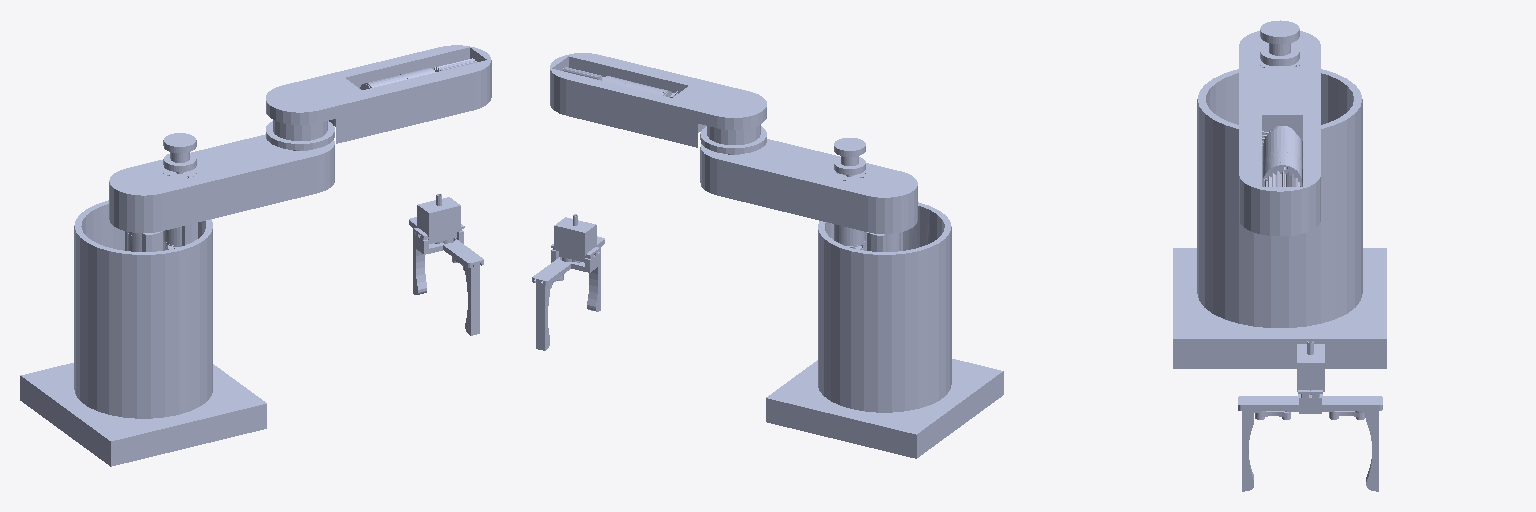
The robot description file, URDF, robot "Ensamblaje_Brazo_URDF":
<?xml version="1.0" encoding="utf-8"?>
<!-- This URDF was automatically created by SolidWorks to URDF Exporter! Originally created by Stephen Brawner (brawner@gmail.com) 
     Commit Version: 1.6.0-4-g7f85cfe  Build Version: 1.6.7995.38578
     For more information, please see http://wiki.ros.org/sw_urdf_exporter -->
<robot
  name="Ensamblaje_Brazo_URDF">
  <link
    name="Llink_Base">
    <inertial>
      <origin
        xyz="0 0 0.039271"
        rpy="0 0 0" />
      <mass
        value="0.54885" />
      <inertia
        ixx="0.0017523"
        ixy="3.7788E-20"
        ixz="3.5061E-20"
        iyy="0.0017453"
        iyz="2.9011E-19"
        izz="0.0013988" />
    </inertial>
    <visual>
      <origin
        xyz="0 0 0"
        rpy="0 0 0" />
      <geometry>
        <mesh
          filename="package://Ensamblaje_Brazo_URDF/meshes/Llink_Base.STL" />
      </geometry>
      <material
        name="">
        <color
          rgba="0.79216 0.81961 0.93333 1" />
      </material>
    </visual>
    <collision>
      <origin
        xyz="0 0 0"
        rpy="0 0 0" />
      <geometry>
        <mesh
          filename="package://Ensamblaje_Brazo_URDF/meshes/Llink_Base.STL" />
      </geometry>
    </collision>
  </link>
  <link
    name="Link_Eslabon_1">
    <inertial>
      <origin
        xyz="0.058329 -0.00010623 0.015274"
        rpy="0 0 0" />
      <mass
        value="0.25927" />
      <inertia
        ixx="7.1859E-05"
        ixy="-9.599E-07"
        ixz="5.3089E-07"
        iyy="0.00058728"
        iyz="-9.2025E-07"
        izz="0.00061596" />
    </inertial>
    <visual>
      <origin
        xyz="0 0 0"
        rpy="0 0 0" />
      <geometry>
        <mesh
          filename="package://Ensamblaje_Brazo_URDF/meshes/Link_Eslabon_1.STL" />
      </geometry>
      <material
        name="">
        <color
          rgba="0.79216 0.81961 0.93333 1" />
      </material>
    </visual>
    <collision>
      <origin
        xyz="0 0 0"
        rpy="0 0 0" />
      <geometry>
        <mesh
          filename="package://Ensamblaje_Brazo_URDF/meshes/Link_Eslabon_1.STL" />
      </geometry>
    </collision>
  </link>
  <joint
    name="joint_1"
    type="revolute">
    <origin
      xyz="0 0 0.15"
      rpy="0 0 0" />
    <parent
      link="Llink_Base" />
    <child
      link="Link_Eslabon_1" />
    <axis
      xyz="0 0 1" />
    <limit
      lower="-1.8"
      upper="1.8"
      effort="10"
      velocity="2" />
    <dynamics
      damping="0.1"
      friction="0.1" />
  </joint>
  <link
    name="Link_Eslabon_2">
    <inertial>
      <origin
        xyz="0.042257 -0.00012759 0.0088938"
        rpy="0 0 0" />
      <mass
        value="0.24161" />
      <inertia
        ixx="6.5839E-05"
        ixy="3.7933E-06"
        ixz="1.4947E-06"
        iyy="0.00045747"
        iyz="2.3418E-07"
        izz="0.00048065" />
    </inertial>
    <visual>
      <origin
        xyz="0 0 0"
        rpy="0 0 0" />
      <geometry>
        <mesh
          filename="package://Ensamblaje_Brazo_URDF/meshes/Link_Eslabon_2.STL" />
      </geometry>
      <material
        name="">
        <color
          rgba="0.79216 0.81961 0.93333 1" />
      </material>
    </visual>
    <collision>
      <origin
        xyz="0 0 0"
        rpy="0 0 0" />
      <geometry>
        <mesh
          filename="package://Ensamblaje_Brazo_URDF/meshes/Link_Eslabon_2.STL" />
      </geometry>
    </collision>
  </link>
  <joint
    name="joint_2"
    type="revolute">
    <origin
      xyz="0.13001 0 0.041"
      rpy="0 0 0" />
    <parent
      link="Link_Eslabon_1" />
    <child
      link="Link_Eslabon_2" />
    <axis
      xyz="0 0 -1" />
    <limit
      lower="-1.8"
      upper="1.8"
      effort="10"
      velocity="2" />
    <dynamics
      damping="0.1"
      friction="0.1" />
  </joint>
  <link
    name="Link_Prismatico">
    <inertial>
      <origin
        xyz="-3.4641E-06 0.005787 -0.039514"
        rpy="0 0 0" />
      <mass
        value="0.013143" />
      <inertia
        ixx="3.1998E-05"
        ixy="2.1321E-10"
        ixz="-8.172E-12"
        iyy="3.2069E-05"
        iyz="-1.4206E-09"
        izz="1.9351E-07" />
    </inertial>
    <visual>
      <origin
        xyz="0 0 0"
        rpy="0 0 0" />
      <geometry>
        <mesh
          filename="package://Ensamblaje_Brazo_URDF/meshes/Link_Prismatico.STL" />
      </geometry>
      <material
        name="">
        <color
          rgba="1 0.94902 0.9098 1" />
      </material>
    </visual>
    <collision>
      <origin
        xyz="0 0 0"
        rpy="0 0 0" />
      <geometry>
        <mesh
          filename="package://Ensamblaje_Brazo_URDF/meshes/Link_Prismatico.STL" />
      </geometry>
    </collision>
  </link>
  <joint
    name="joint_3"
    type="prismatic">
    <origin
      xyz="0.12605 0.0075365 0.042788"
      rpy="0 0 0" />
    <parent
      link="Link_Eslabon_2" />
    <child
      link="Link_Prismatico" />
    <axis
      xyz="0 0 1" />
    <limit
      lower="0"
      upper="0.1"
      effort="20"
      velocity="0.15" />
    <dynamics
      damping="0.5"
      friction="0.5" />
  </joint>
  <link
    name="Link_Gripper">
    <inertial>
      <origin
        xyz="0.010901 0.029379 8.7874E-05"
        rpy="0 0 0" />
      <mass
        value="0.021453" />
      <inertia
        ixx="4.892E-06"
        ixy="4.5201E-08"
        ixz="-9.1709E-11"
        iyy="3.6629E-06"
        iyz="2.0401E-12"
        izz="3.4171E-06" />
    </inertial>
    <visual>
      <origin
        xyz="0 0 0"
        rpy="0 0 0" />
      <geometry>
        <mesh
          filename="package://Ensamblaje_Brazo_URDF/meshes/Link_Gripper.STL" />
      </geometry>
      <material
        name="">
        <color
          rgba="0.79216 0.81961 0.93333 1" />
      </material>
    </visual>
    <collision>
      <origin
        xyz="0 0 0"
        rpy="0 0 0" />
      <geometry>
        <mesh
          filename="package://Ensamblaje_Brazo_URDF/meshes/Link_Gripper.STL" />
      </geometry>
    </collision>
  </link>
  <joint
    name="joint_4"
    type="revolute">
    <origin
      xyz="0.0133 0.011 -0.13461"
      rpy="-1.5708 0 3.1416" />
    <parent
      link="Link_Prismatico" />
    <child
      link="Link_Gripper" />
    <axis
      xyz="0 0 -1" />
    <limit
      lower="-2.5"
      upper="2.5"
      effort="5"
      velocity="2" />
    <dynamics
      damping="0.1"
      friction="0.1" />
  </joint>
</robot>

--- What the picture shows (computed from the rendered views, not written in the file) ---
The picture shows the robot from 3 angles, left to right: view 1: azimuth 30°, elevation 25°; view 2: azimuth 150°, elevation 25°; view 3: azimuth 270°, elevation 25°; orthographic projection.
Model Ensamblaje_Brazo_URDF with 5 links and 4 joints (3 revolute, 1 prismatic), rooted at Llink_Base, posed all joints at 0.
Visible links, largest first — view 1: Llink_Base, Link_Eslabon_2, Link_Eslabon_1, Link_Gripper; view 2: Llink_Base, Link_Eslabon_2, Link_Eslabon_1, Link_Gripper; view 3: Llink_Base, Link_Eslabon_2, Link_Gripper, Link_Eslabon_1.
Boxes of the visible links, x1=… form: Llink_Base: x1=20, y1=200, x2=266, y2=466; Link_Eslabon_2: x1=163, y1=45, x2=491, y2=249; Link_Eslabon_1: x1=109, y1=134, x2=334, y2=251; Link_Gripper: x1=409, y1=194, x2=483, y2=335; Llink_Base: x1=766, y1=202, x2=1003, y2=458; Link_Eslabon_2: x1=550, y1=53, x2=865, y2=249; Link_Eslabon_1: x1=700, y1=139, x2=917, y2=251; Link_Gripper: x1=532, y1=214, x2=604, y2=350; Llink_Base: x1=1173, y1=69, x2=1386, y2=368; Link_Eslabon_2: x1=1239, y1=20, x2=1320, y2=236; Link_Gripper: x1=1238, y1=341, x2=1382, y2=491; Link_Eslabon_1: x1=1239, y1=31, x2=1320, y2=81.
Bounding box of the posed robot: 0.35 × 0.13 × 0.221 m (x, y, z).
4 mesh visuals loaded from 5 distinct referenced files (4 binary STL); not drawn: 1 (reference not matched to a file when rendering).
